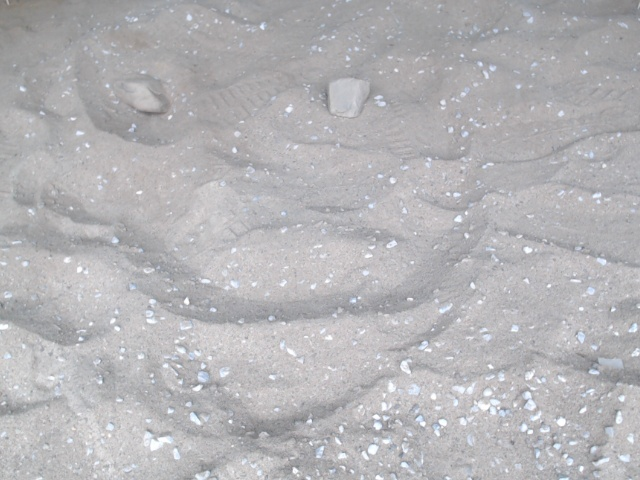rock: (106, 69, 176, 121), (322, 73, 374, 123)
